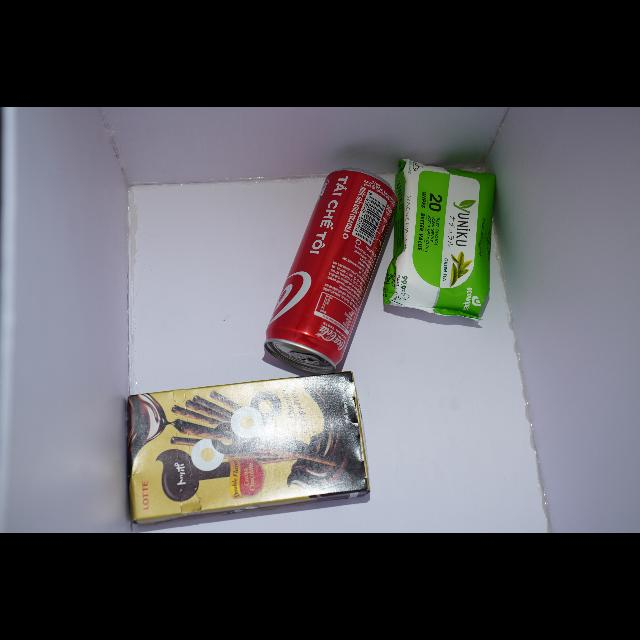banh_toppo_socola: (128, 372, 369, 524)
coca_cola: (265, 169, 397, 374)
khan_giay: (384, 159, 495, 319)
